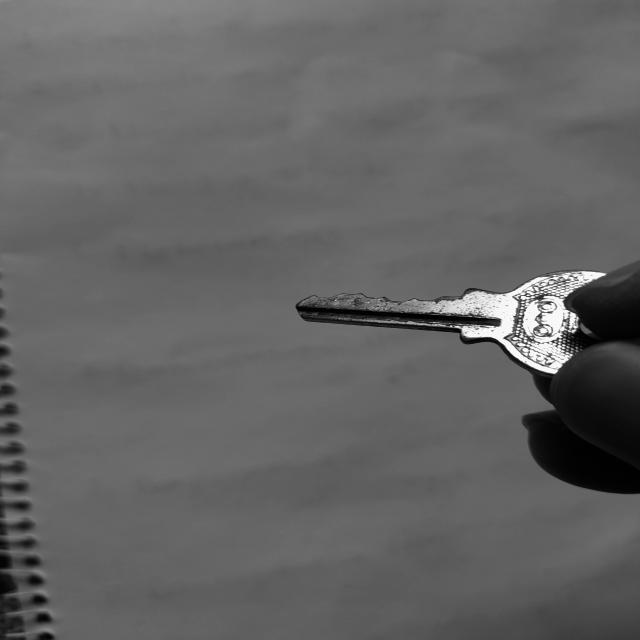KEY: (297, 270, 606, 377)
